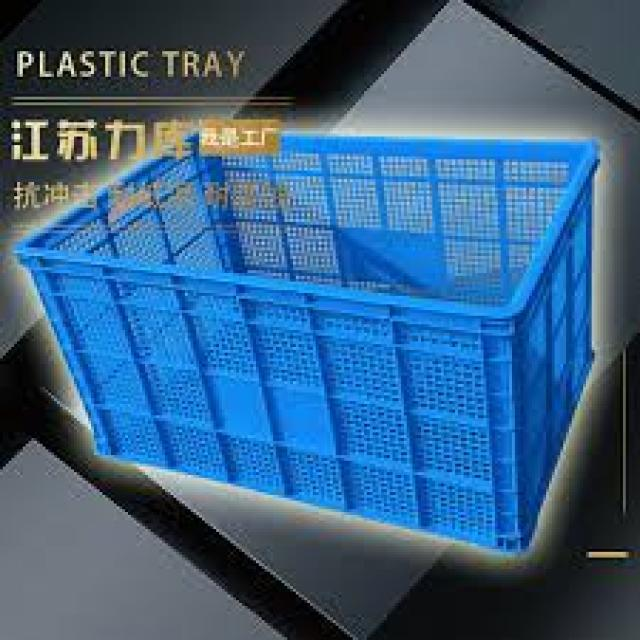basket: (14, 132, 599, 552)
